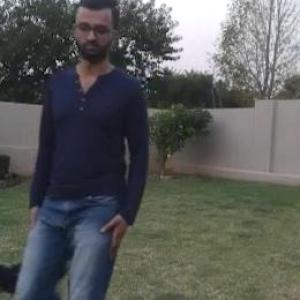follow: (36, 0, 145, 299)
